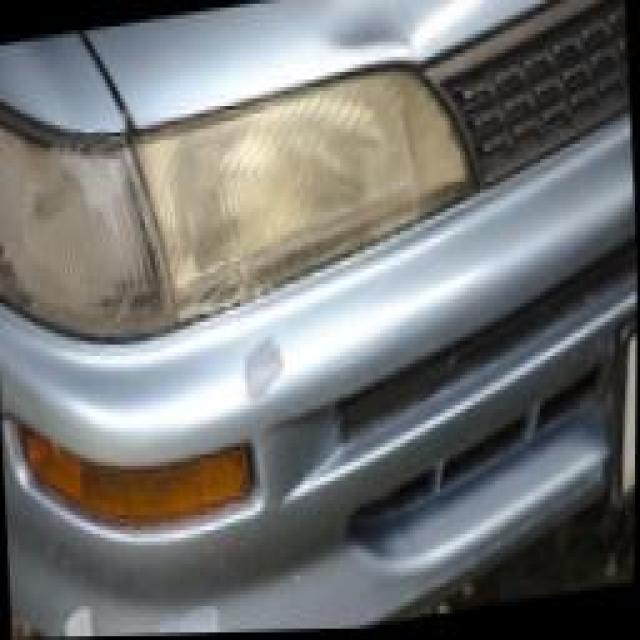Bonnet: (78, 0, 626, 119)
Bumper: (0, 231, 503, 638)
